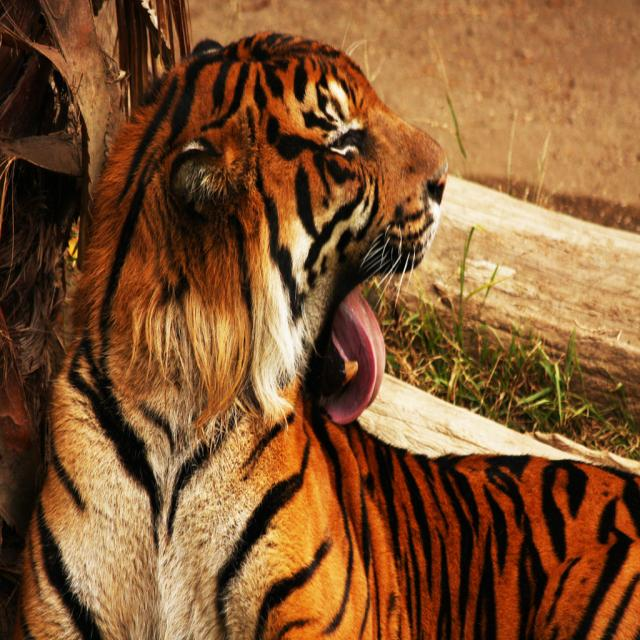Tiger: (13, 18, 640, 640)
